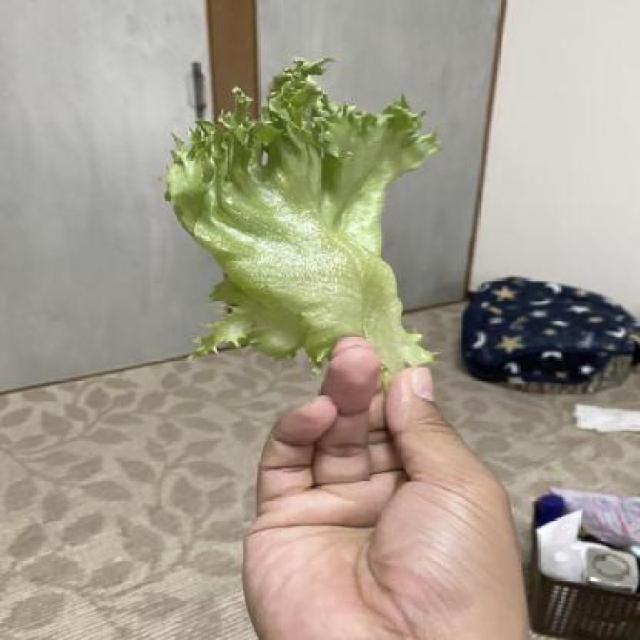Lettuce: (162, 51, 444, 388)
